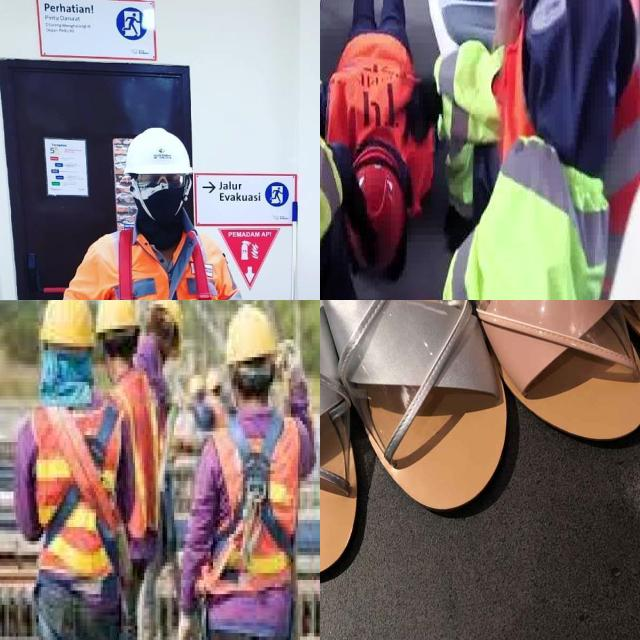Harness: (29, 390, 138, 640), (202, 404, 300, 640), (114, 225, 217, 300)
Sandals: (320, 300, 538, 595), (435, 300, 640, 459)
hand_glove: (397, 75, 445, 148)
head_helmet: (352, 142, 404, 268)
person: (431, 0, 640, 300), (333, 0, 443, 289)
vest: (496, 0, 640, 268), (328, 33, 434, 212)
